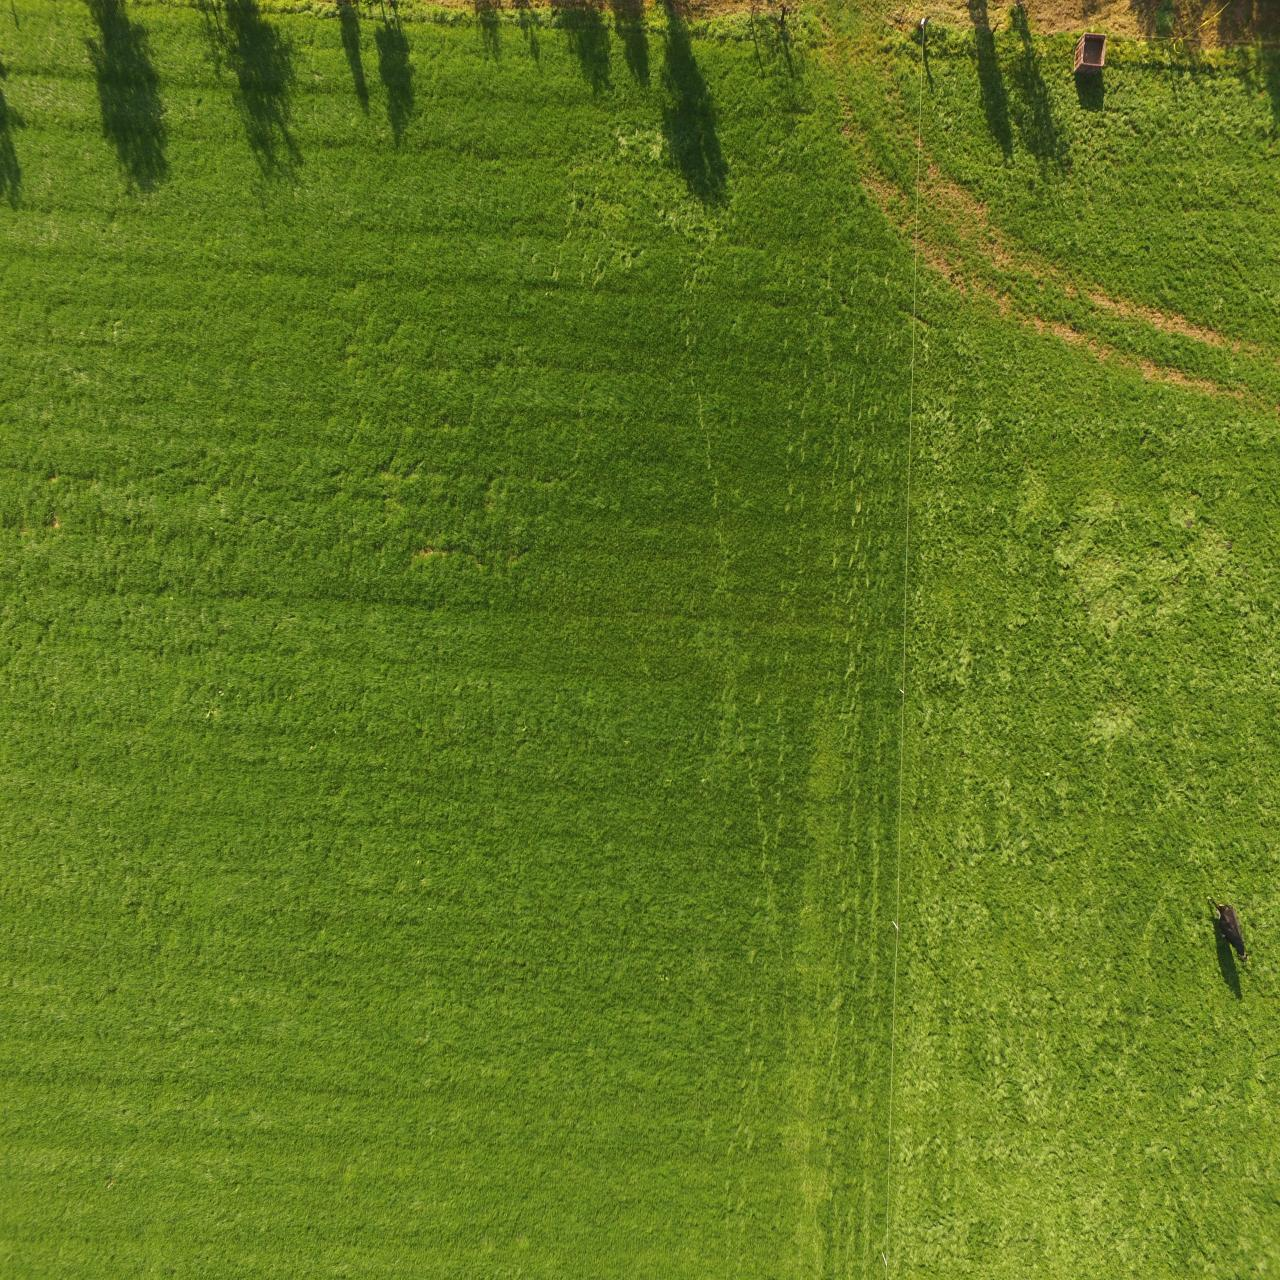cow: (1193, 883, 1260, 969)
